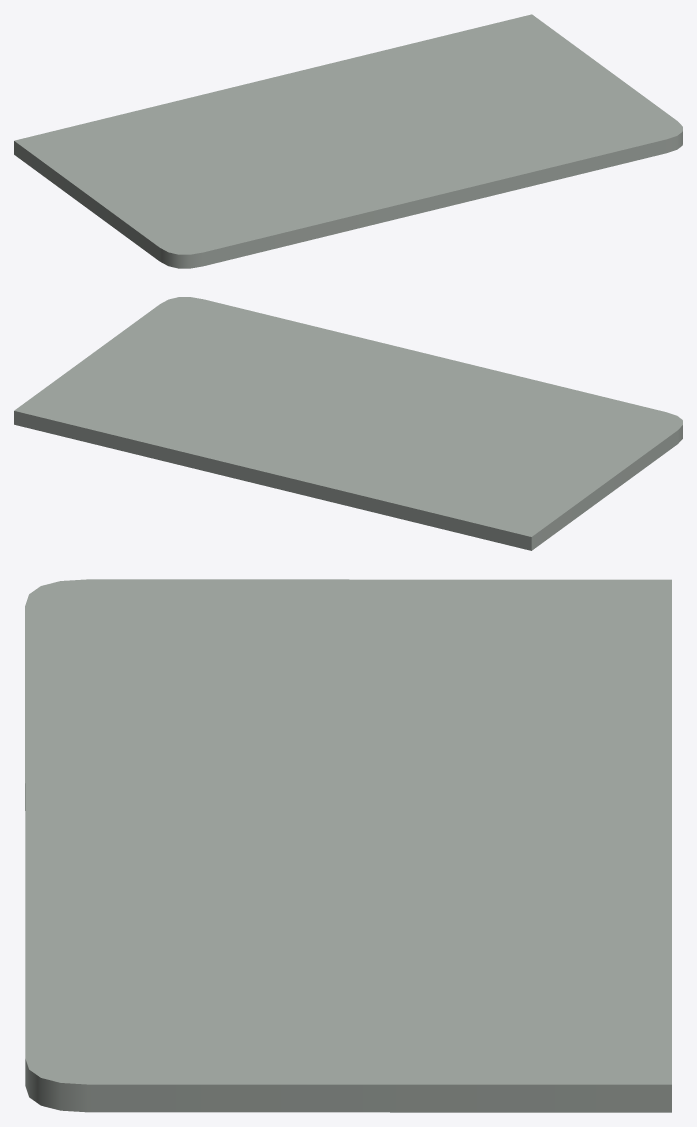
Rendered from shop_parking_s03.FBX.
The picture shows the model from 3 angles, top to bottom: view 1: azimuth 30°, elevation 25°; view 2: azimuth 150°, elevation 25°; view 3: azimuth 270°, elevation 25°; orthographic projection. The views are drawn at different scales.
Parts seen in each view (by area): view 1: shop_parking_s03; view 2: shop_parking_s03; view 3: shop_parking_s03.
Boxes of the visible parts, box(x1,y1,x2,y2) form: shop_parking_s03: box(14, 14, 682, 268); shop_parking_s03: box(14, 297, 682, 550); shop_parking_s03: box(25, 579, 671, 1112).
Size of the model in its own units: 948 by 513 by 24.31.
Materials: 1 (1 with a texture image).
